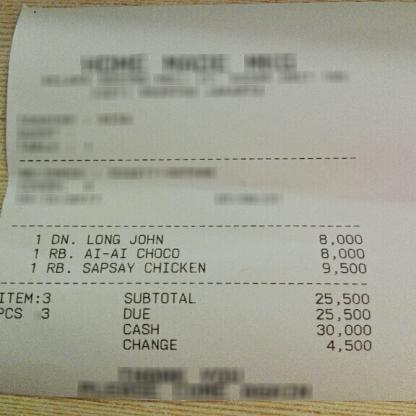receipts: (0, 8, 415, 398)
